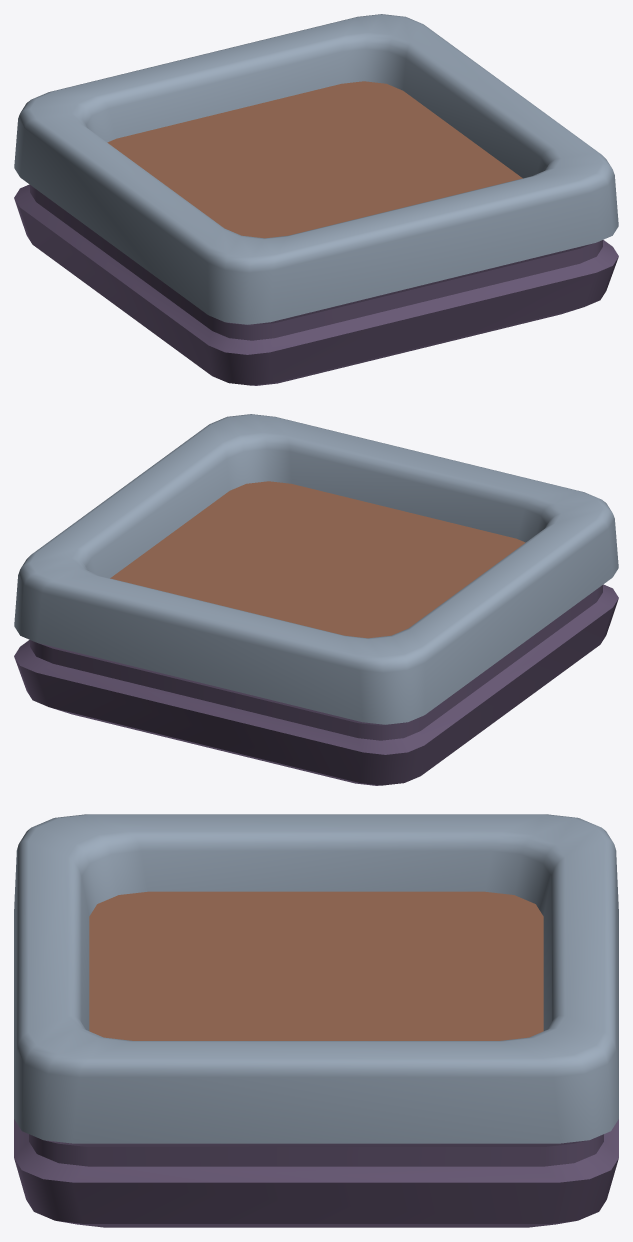
Rendered from FlowerPot01.fbx.
3 views of the same model, one above another, from view 1: azimuth 30°, elevation 25°; view 2: azimuth 150°, elevation 25°; view 3: azimuth 270°, elevation 25° (orthographic). The views are drawn at different scales.
Visible parts, largest first — view 1: Cube.012; view 2: Cube.012; view 3: Cube.012.
Part boxes in pixels (x1,y1,x2,y2): Cube.012: (14, 14, 618, 385); Cube.012: (14, 414, 618, 785); Cube.012: (14, 814, 618, 1227).
Bounding box in the file's own units: 89.97 × 29.25 × 89.97.
